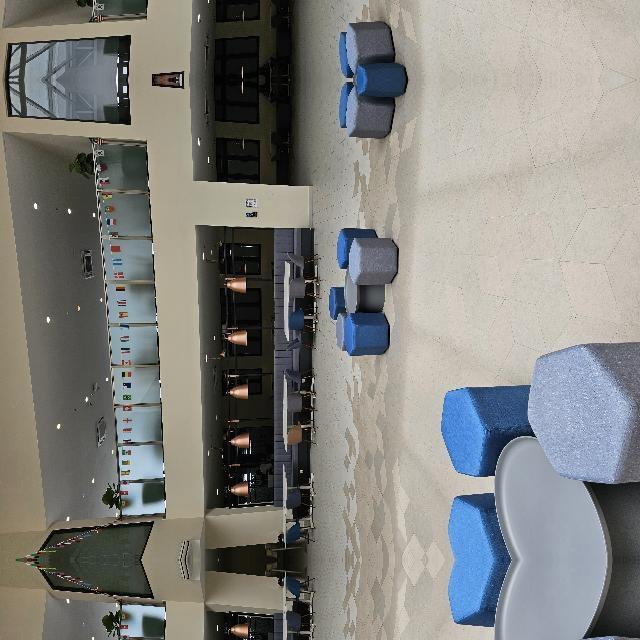obstacle: (0, 400, 212, 618), (0, 502, 212, 640), (204, 400, 330, 480), (410, 416, 480, 482), (410, 637, 480, 640)
